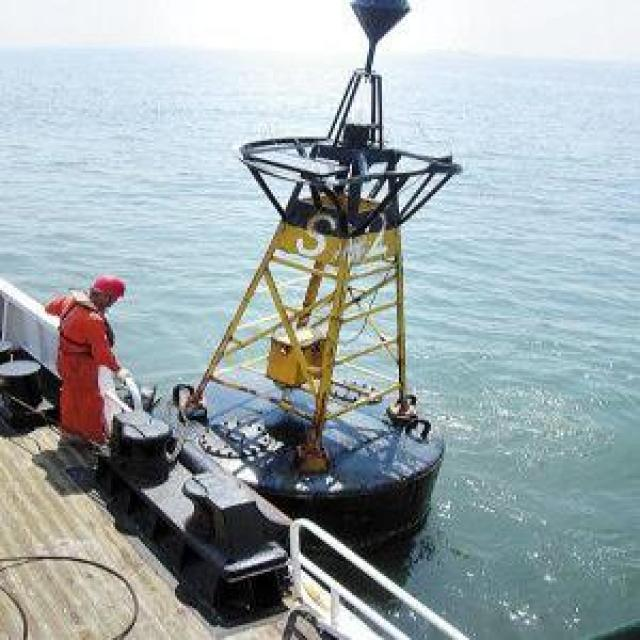buoy: (153, 0, 461, 536)
